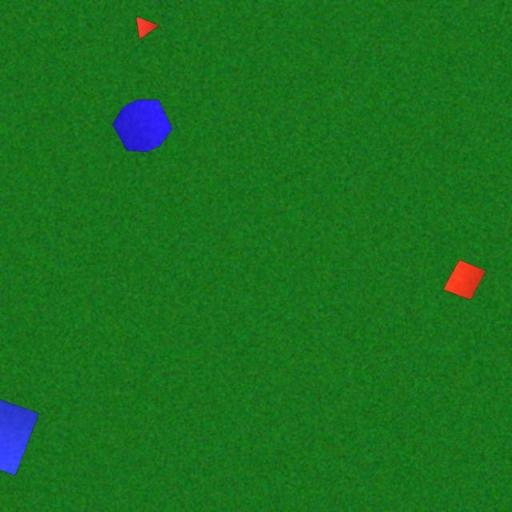BLUE_SQUARE: (0, 393, 40, 477)
RED_SQUARE: (442, 258, 486, 302)
